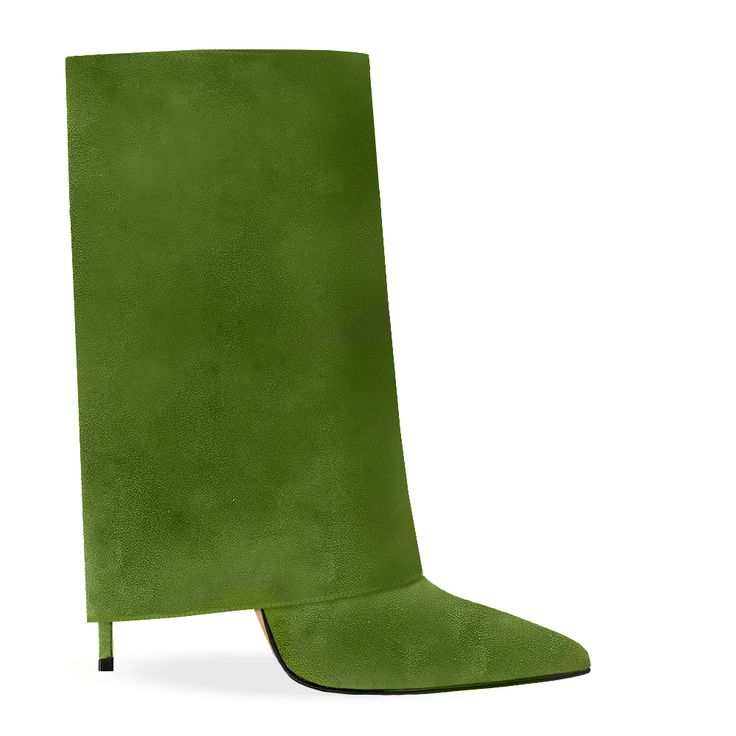gamuza: (65, 50, 591, 690)
